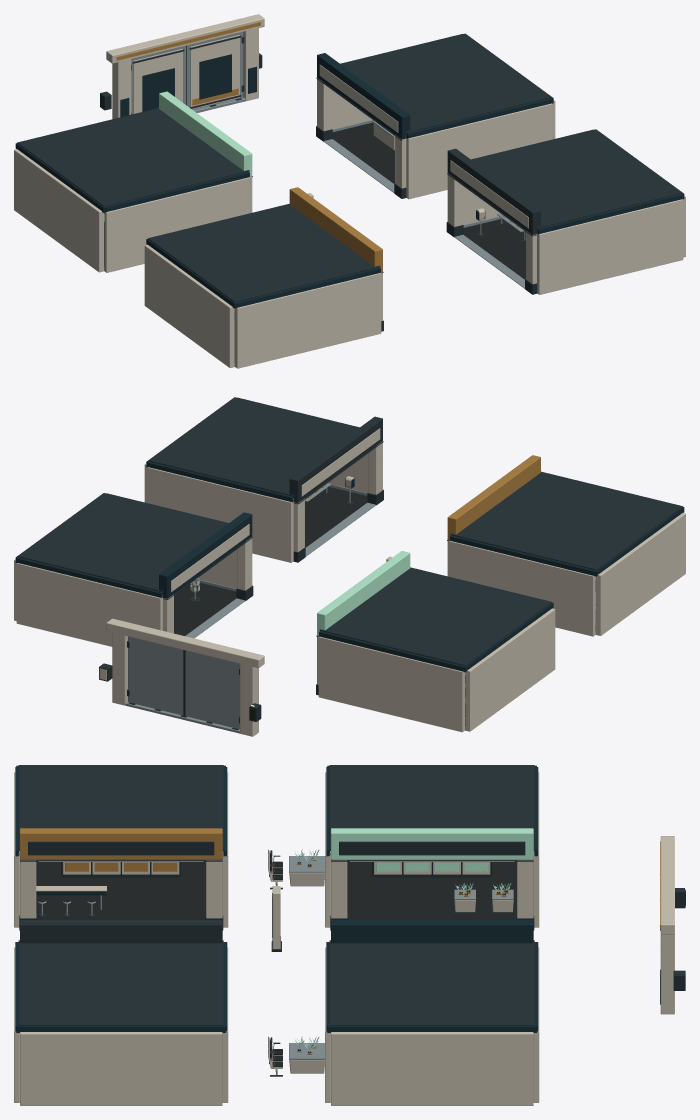
The model's file is station-promenade.glb.
3 renders of one model, top to bottom at view 1: azimuth 30°, elevation 25°; view 2: azimuth 150°, elevation 25°; view 3: azimuth 270°, elevation 25°, orthographic. The views are drawn at different scales.
Parts seen in each view (by area): view 1: Static_FinishIvory, Static_FinishDark, Static_FinishPetrol, Static_FinishRubber, Static_FinishSteel, Static_FinishOchre, Static_FinishFoliage; view 2: Static_FinishIvory, Static_FinishDark, Static_FinishSteel, Static_FinishPetrol, Static_FinishRubber, Static_FinishOchre, Static_FinishFoliage; view 3: Static_FinishDark, Static_FinishIvory, Static_FinishRubber, Static_FinishPetrol, Static_FinishFoliage, Static_FinishOchre, Static_FinishSteel.
Part boxes in pixels (x1,y1,x2,y2): Static_FinishIvory: (14,14,685,368); Static_FinishDark: (17,33,682,331); Static_FinishPetrol: (15,34,684,317); Static_FinishRubber: (210,98,525,362); Static_FinishSteel: (104,32,537,366); Static_FinishOchre: (116,22,382,272); Static_FinishFoliage: (104,91,252,221); Static_FinishIvory: (14,428,685,736); Static_FinishDark: (17,397,682,723); Static_FinishSteel: (125,459,595,733); Static_FinishPetrol: (15,397,684,720); Static_FinishRubber: (129,487,595,730); Static_FinishOchre: (308,455,595,718); Static_FinishFoliage: (317,551,410,635); Static_FinishDark: (18,765,685,1076); Static_FinishIvory: (14,772,674,1105); Static_FinishRubber: (36,858,685,1067); Static_FinishPetrol: (15,765,660,1063); Static_FinishFoliage: (294,828,533,1052); Static_FinishOchre: (20,828,660,1054); Static_FinishSteel: (18,851,659,1075).
Bounding box in the file's own units: 26.6 × 4.56 × 28.52.
